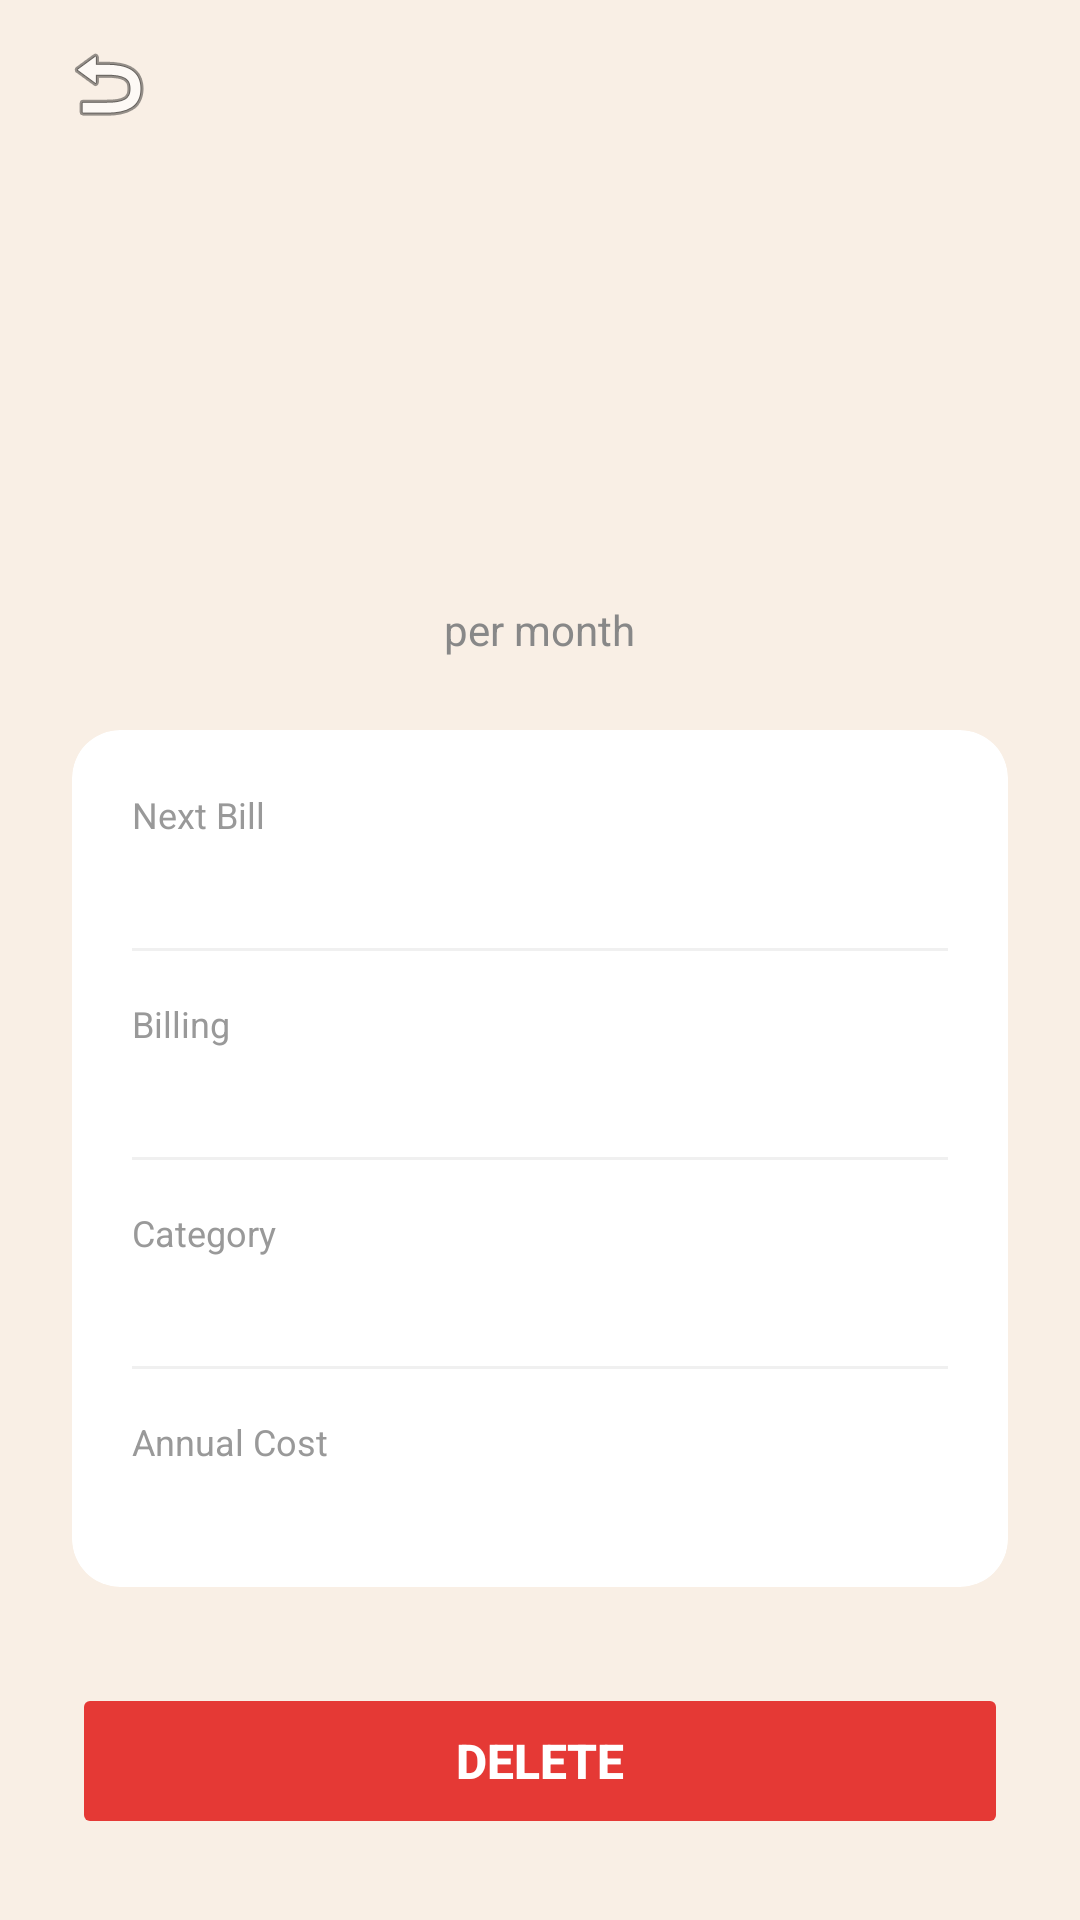

Where to tap for icons on this 1080 x 1920 app screen, as (x=x, y=y):
Back: (x=109, y=84)
